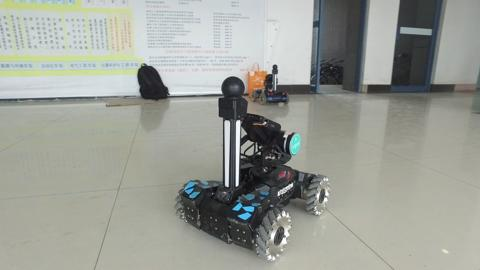bag: (133, 60, 174, 104), (245, 62, 270, 98)
chariot: (172, 74, 331, 263), (251, 63, 290, 107)
